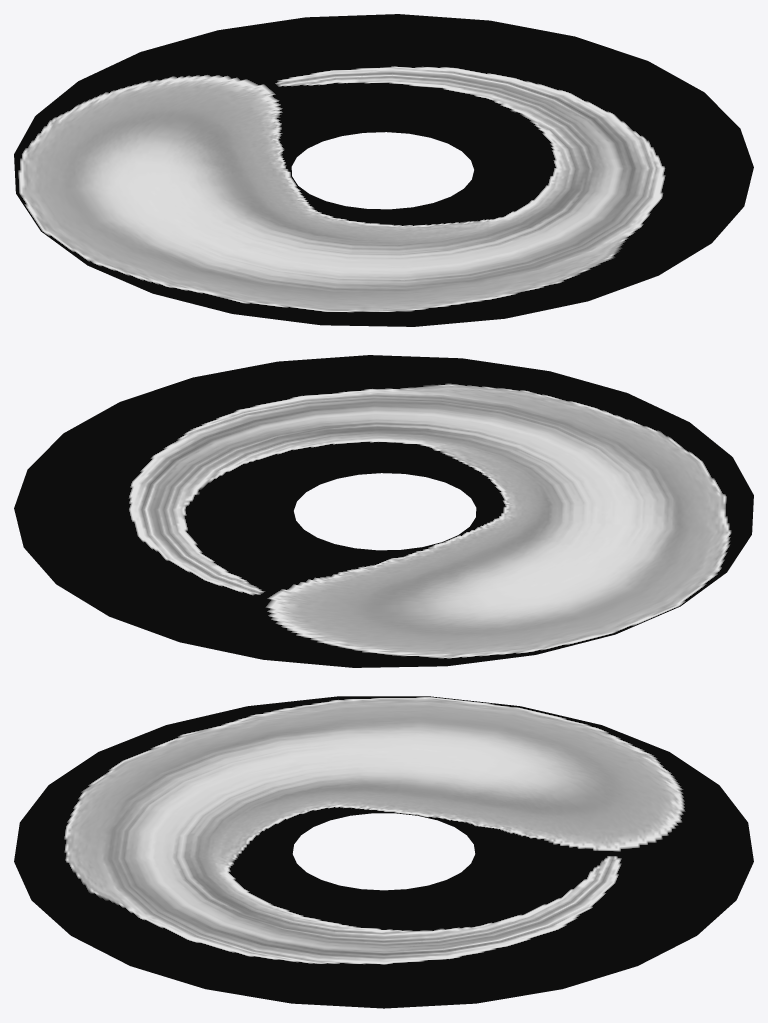
File: yuanxinghuan.FBX
3 renders of one model, top to bottom at view 1: azimuth 30°, elevation 25°; view 2: azimuth 150°, elevation 25°; view 3: azimuth 270°, elevation 25°, orthographic.
Parts seen in each view (by area): view 1: yuanxinghuan; view 2: yuanxinghuan; view 3: yuanxinghuan.
Boxes of the visible parts, bbox=[...] form: yuanxinghuan: bbox=[14, 14, 753, 326]; yuanxinghuan: bbox=[14, 355, 753, 667]; yuanxinghuan: bbox=[14, 696, 753, 1008].
Bounding box in the file's own units: 120 × 6.58e-06 × 120.
